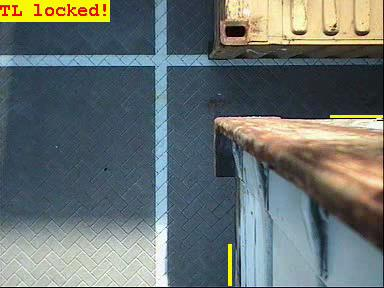groundmarker_2: (107, 70, 207, 137)
